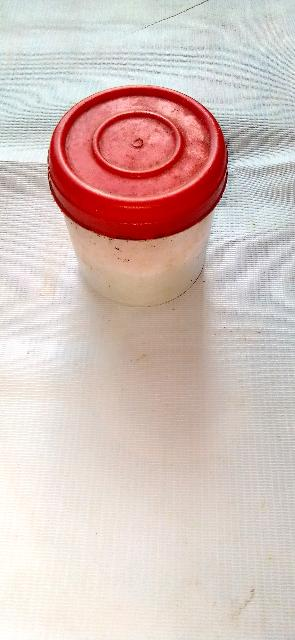hardplastic: (41, 91, 237, 316)
